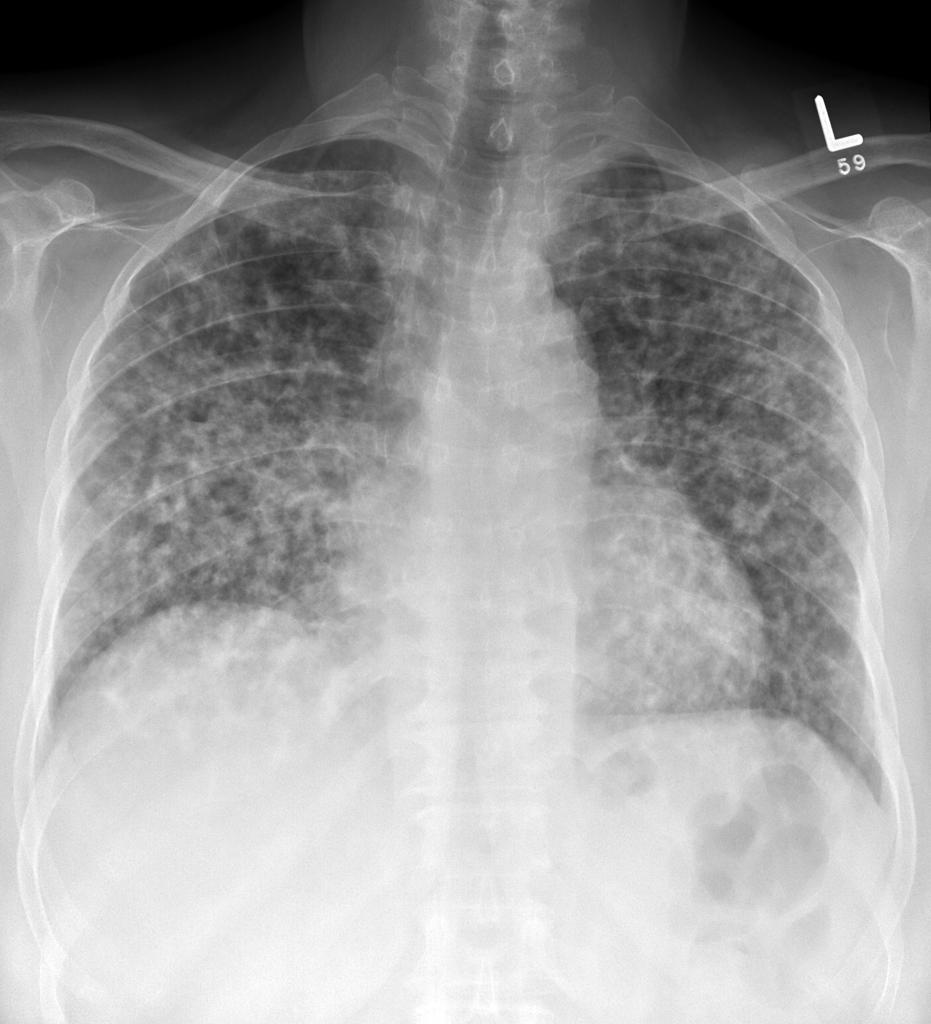cancer: (72, 155, 408, 882), (548, 206, 876, 714)
